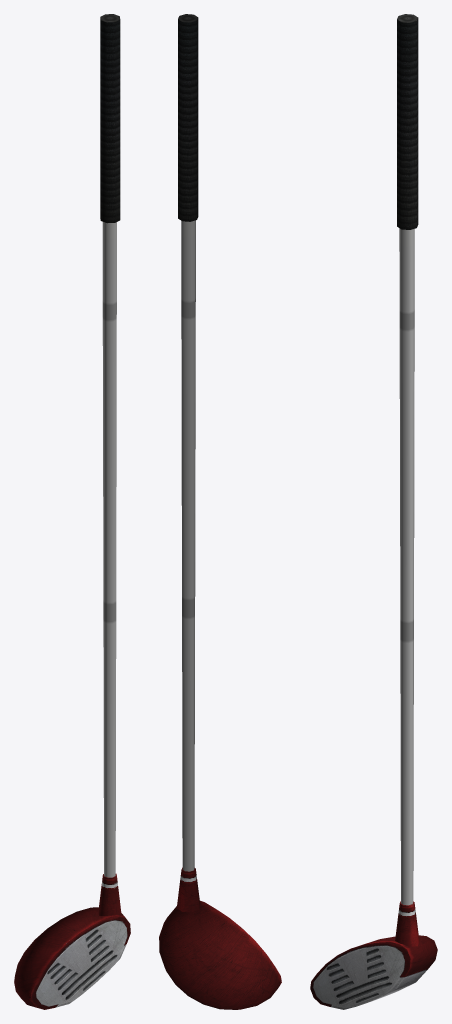
The model's file is Wood_45_10_57.FBX.
3 views of the same model, side by side, from view 1: azimuth 30°, elevation 25°; view 2: azimuth 150°, elevation 25°; view 3: azimuth 330°, elevation 25° (orthographic). The views are drawn at different scales.
Parts seen in each view (by area): view 1: Wood/45/10/57; view 2: Wood/45/10/57; view 3: Wood/45/10/57.
Boxes of the visible parts, box(x1,y1,x2,y2) form: Wood/45/10/57: box(14, 14, 130, 1009); Wood/45/10/57: box(159, 14, 281, 1009); Wood/45/10/57: box(310, 14, 437, 1009).
Bounding box in the file's own units: 5.31 × 48.33 × 4.27.
